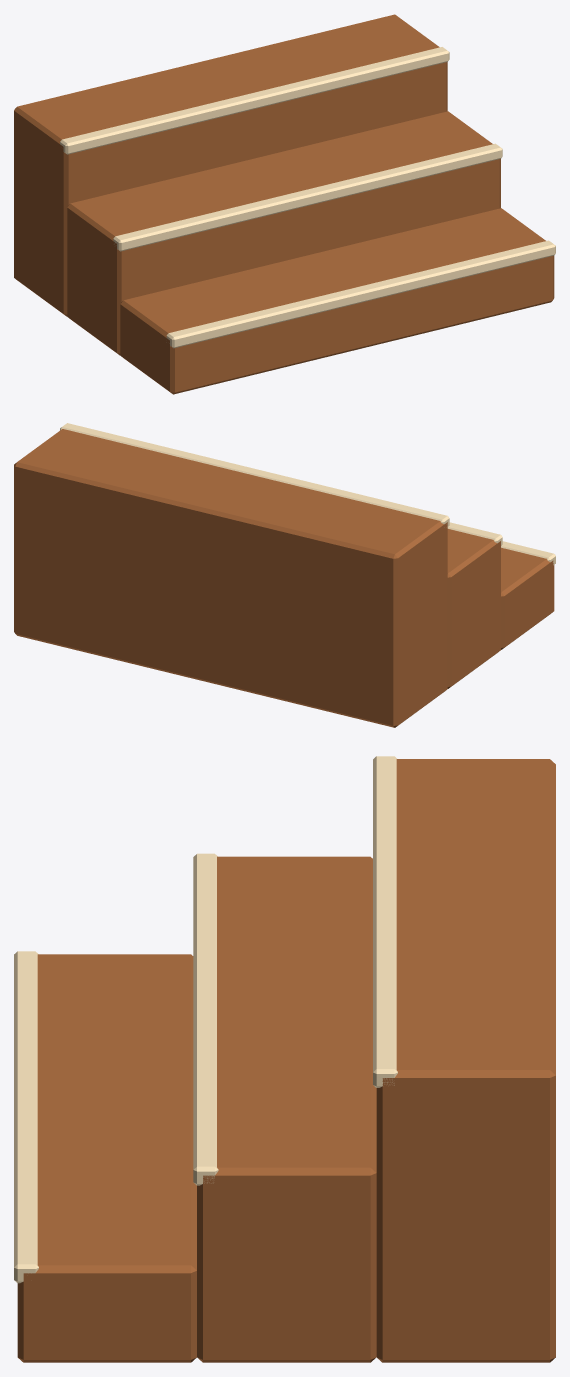
Rendered from stage_steps.glb.
3 renders of one model, top to bottom at view 1: azimuth 30°, elevation 25°; view 2: azimuth 150°, elevation 25°; view 3: azimuth 270°, elevation 25°, orthographic. The views are drawn at different scales.
Parts seen in each view (by area): view 1: Degrau.002, Degrau.001, Degrau, Ponta contrastante, Ponta contrastante.001, Ponta contrastante.002; view 2: Degrau.002, Degrau.001, Degrau, Ponta contrastante.002, Ponta contrastante, Ponta contrastante.001; view 3: Degrau.002, Degrau.001, Degrau, Ponta contrastante.001, Ponta contrastante.002, Ponta contrastante.
Boxes of the visible parts, x1,y1,x2,y2 form: Degrau.002: (14,14,447,316); Degrau.001: (67,111,500,355); Degrau: (120,208,554,394); Ponta contrastante: (166,240,555,348); Ponta contrastante.001: (113,143,502,251); Ponta contrastante.002: (60,47,449,154); Degrau.002: (14,429,447,727); Degrau.001: (447,529,500,688); Degrau: (501,547,554,649); Ponta contrastante.002: (60,423,449,526); Ponta contrastante: (501,541,555,565); Ponta contrastante.001: (447,522,502,545); Degrau.002: (376,759,555,1362); Degrau.001: (197,856,376,1362); Degrau: (17,954,196,1362); Ponta contrastante.001: (193,853,218,1185); Ponta contrastante.002: (373,756,397,1087); Ponta contrastante: (14,951,38,1283).
Size of the model in its own units: 1.25 by 0.5435 by 0.906.
